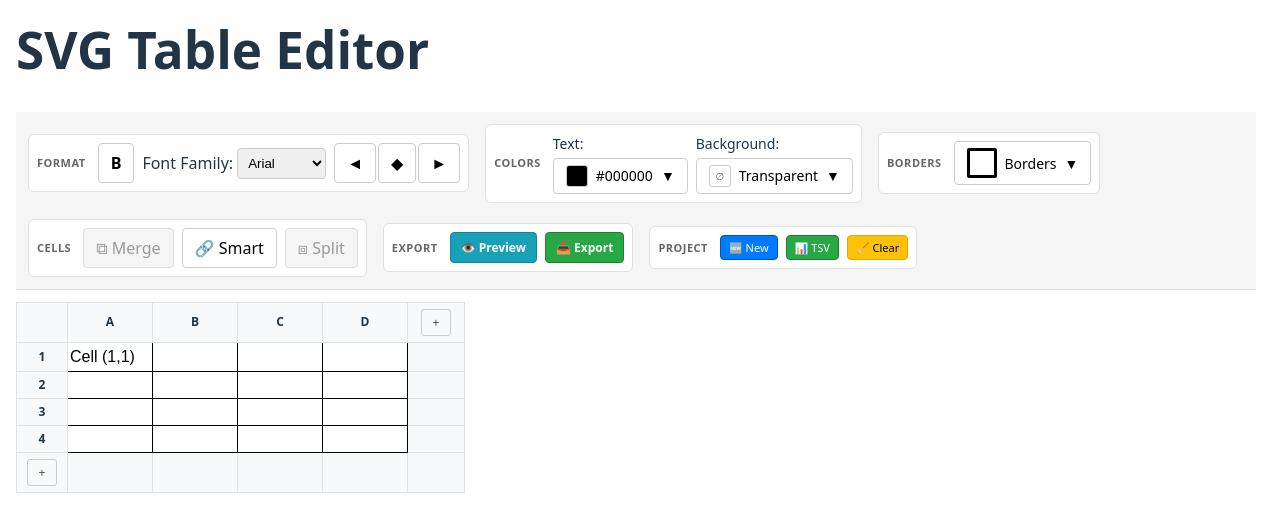
Test: Table Size Integration › should add a row when + button is clicked
The image size is (1273, 523).
Check: the number of rows is 6, box [16,302,464,342]; [16,342,464,372]; [16,372,464,398]; [16,398,464,426]; [16,426,464,452]; [16,452,464,492]
Click the button "+" below "Cell (1,1)": click(42, 472) [27,459,57,486]
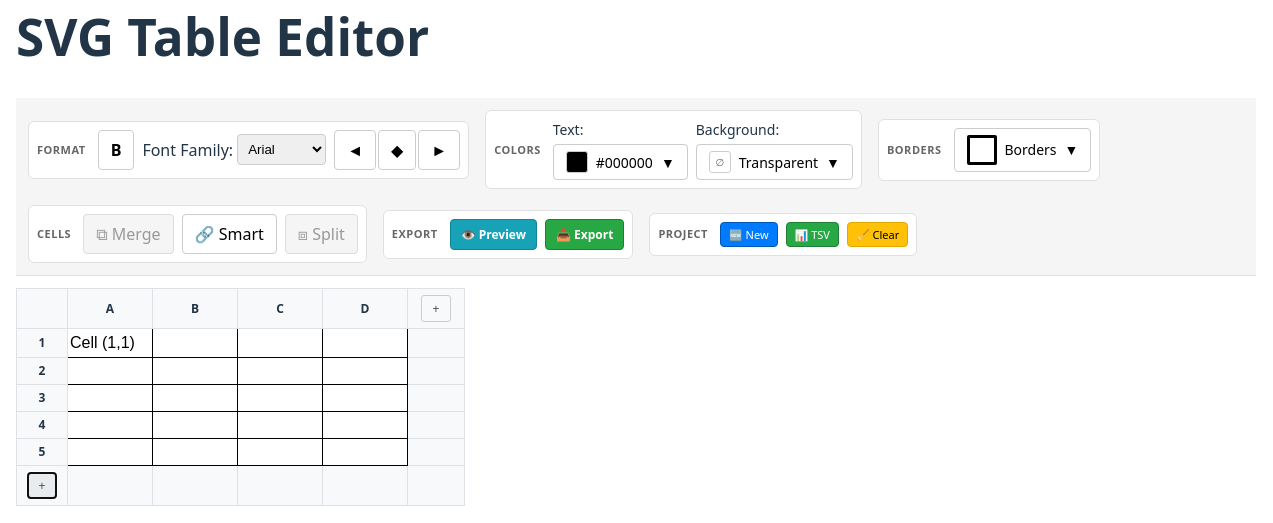
Check: the number of rows is 7
